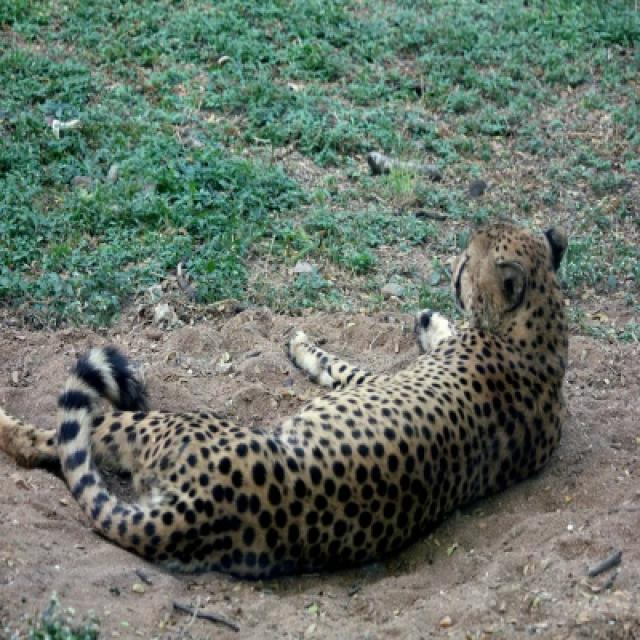Cheetah: (18, 219, 570, 582)
